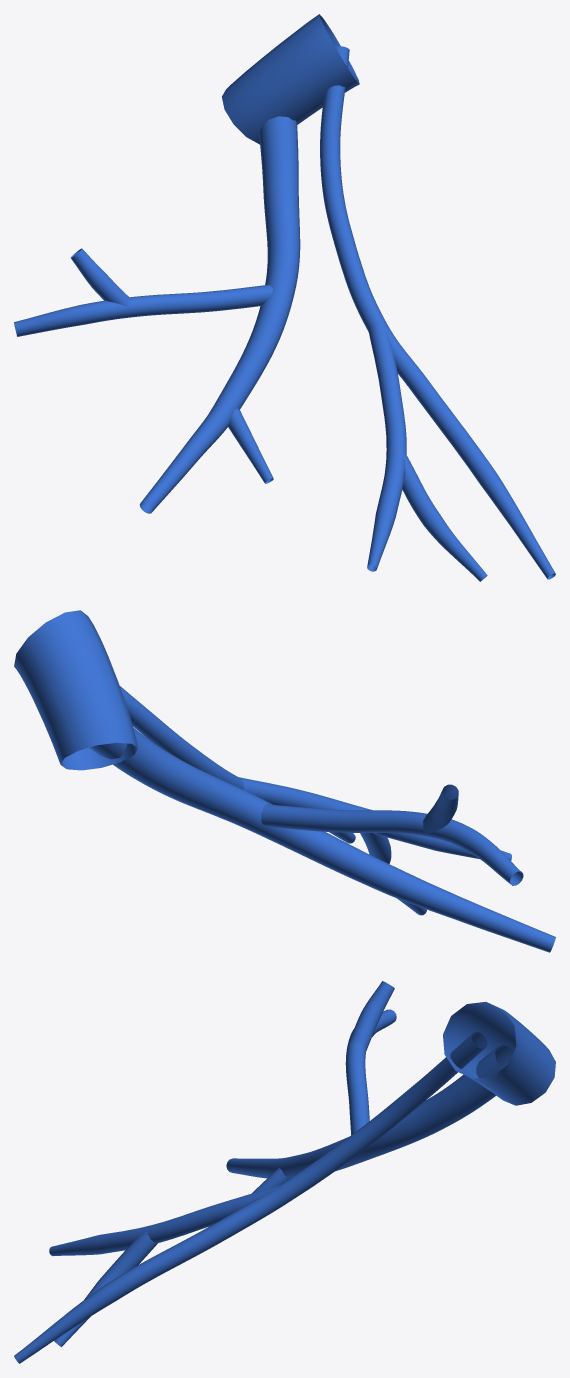
Rendered from circulatorio-middle-lobar-artery-of-right-lung.glb.
The picture shows the model from 3 angles, top to bottom: view 1: azimuth 30°, elevation 25°; view 2: azimuth 150°, elevation 25°; view 3: azimuth 270°, elevation 25°; orthographic projection. The views are drawn at different scales.
Parts seen in each view (by area): view 1: Lateral segmental artery of right lung, Medial segmental artery of right lung, Middle lobar artery of right lung; view 2: Lateral segmental artery of right lung, Middle lobar artery of right lung, Medial segmental artery of right lung; view 3: Medial segmental artery of right lung, Lateral segmental artery of right lung, Middle lobar artery of right lung.
Boxes of the visible parts, bbox=[...] form: Lateral segmental artery of right lung: bbox=[14, 116, 300, 513]; Medial segmental artery of right lung: bbox=[320, 46, 555, 581]; Middle lobar artery of right lung: bbox=[222, 14, 359, 144]; Lateral segmental artery of right lung: bbox=[89, 727, 555, 952]; Middle lobar artery of right lung: bbox=[14, 610, 137, 770]; Medial segmental artery of right lung: bbox=[120, 686, 511, 863]; Medial segmental artery of right lung: bbox=[14, 1032, 487, 1363]; Lateral segmental artery of right lung: bbox=[226, 981, 513, 1193]; Middle lobar artery of right lung: bbox=[443, 1002, 555, 1105].
Size of the model in its own units: 0.0894 by 0.0841 by 0.1107.
